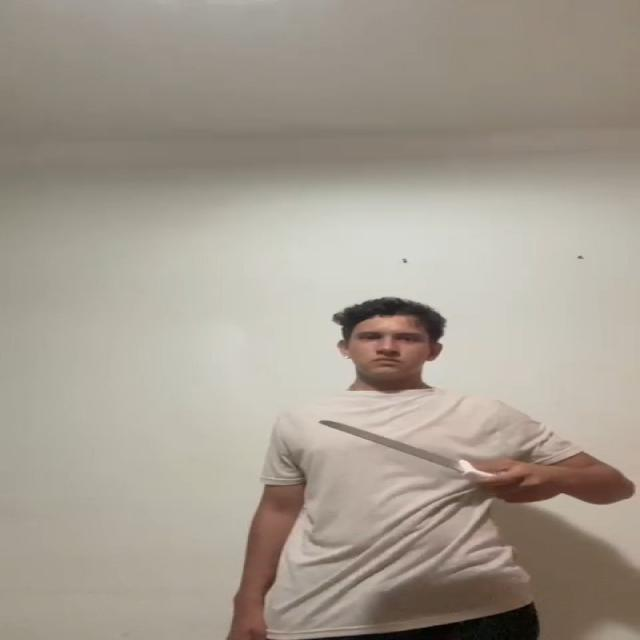knife: (320, 420, 460, 469)
